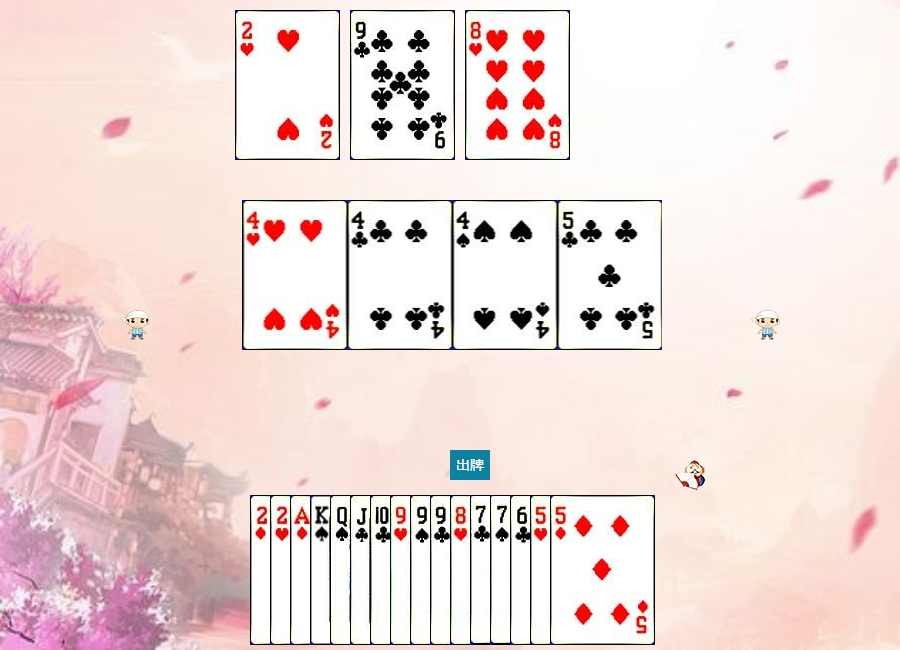10~2: (370, 495, 475, 645)
11~2: (350, 495, 455, 645)
12~4: (330, 495, 435, 645)
13~4: (310, 495, 415, 645)
14~1: (290, 495, 395, 645)
15~1: (250, 495, 355, 645)
15~3: (235, 10, 340, 160), (270, 495, 375, 645)
4~2: (348, 200, 453, 350)
4~3: (243, 200, 348, 350)
4~4: (453, 200, 558, 350)
5~1: (550, 495, 655, 645)
5~2: (558, 200, 663, 350)
5~3: (530, 495, 635, 645)
6~2: (510, 495, 615, 645)
7~2: (470, 495, 575, 645)
7~4: (490, 495, 595, 645)
8~3: (465, 10, 570, 160), (450, 495, 555, 645)
9~2: (350, 10, 455, 160), (430, 495, 535, 645)
9~3: (390, 495, 495, 645)
9~4: (410, 495, 515, 645)
